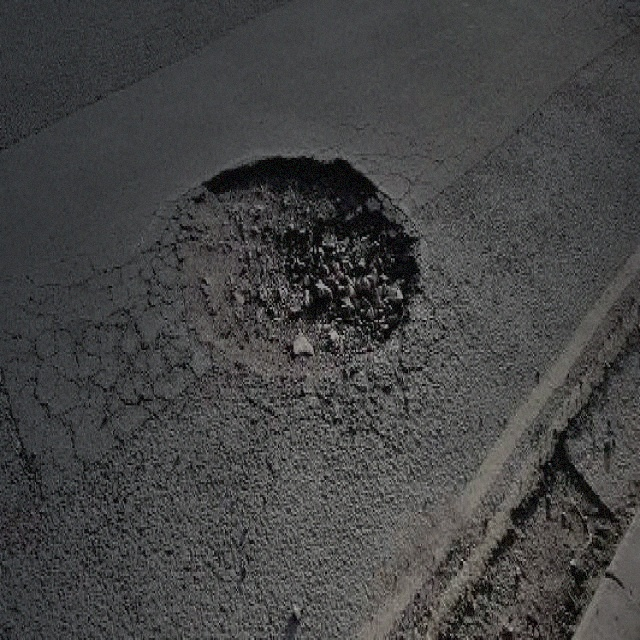pothole: (143, 150, 430, 372), (426, 435, 624, 638)
